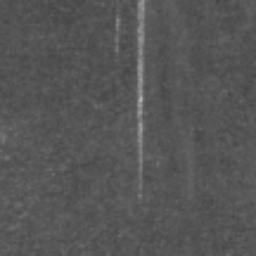Bright scratch: (137, 0, 144, 196), (115, 16, 120, 54)
